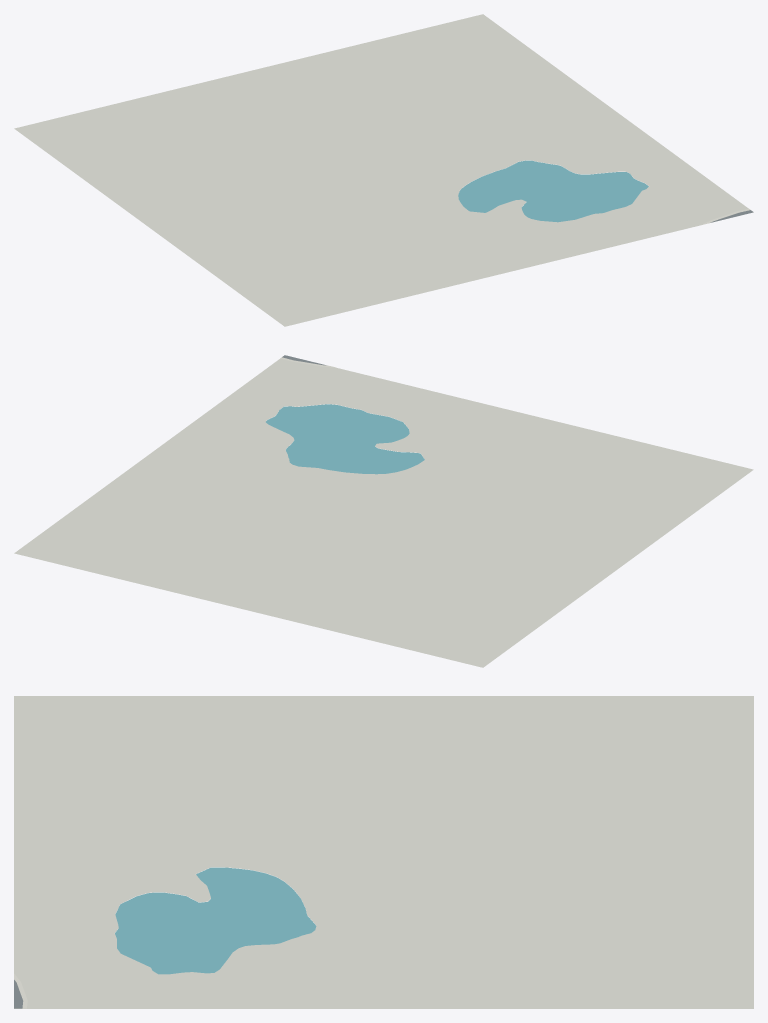
3 views of the same model, one above another, from view 1: azimuth 30°, elevation 25°; view 2: azimuth 150°, elevation 25°; view 3: azimuth 270°, elevation 25° (orthographic). The views are drawn at different scales.
Visible parts, largest first — view 1: city; view 2: city; view 3: city.
Part boxes in pixels (<box>): city: <box>14,14,753,326</box>; city: <box>14,355,753,667</box>; city: <box>14,696,753,1008</box>.
Bounding box in the file's own units: 500 × 0.4 × 500.
